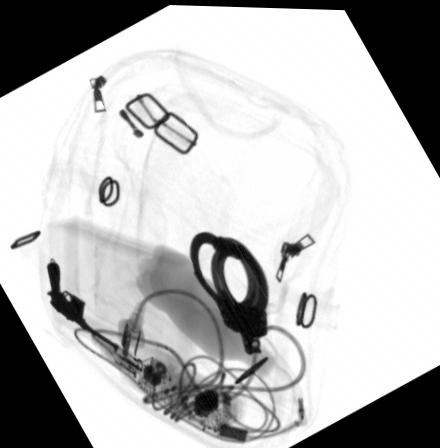Gun: (42, 258, 121, 355)
HandCuffs: (187, 228, 271, 356)
